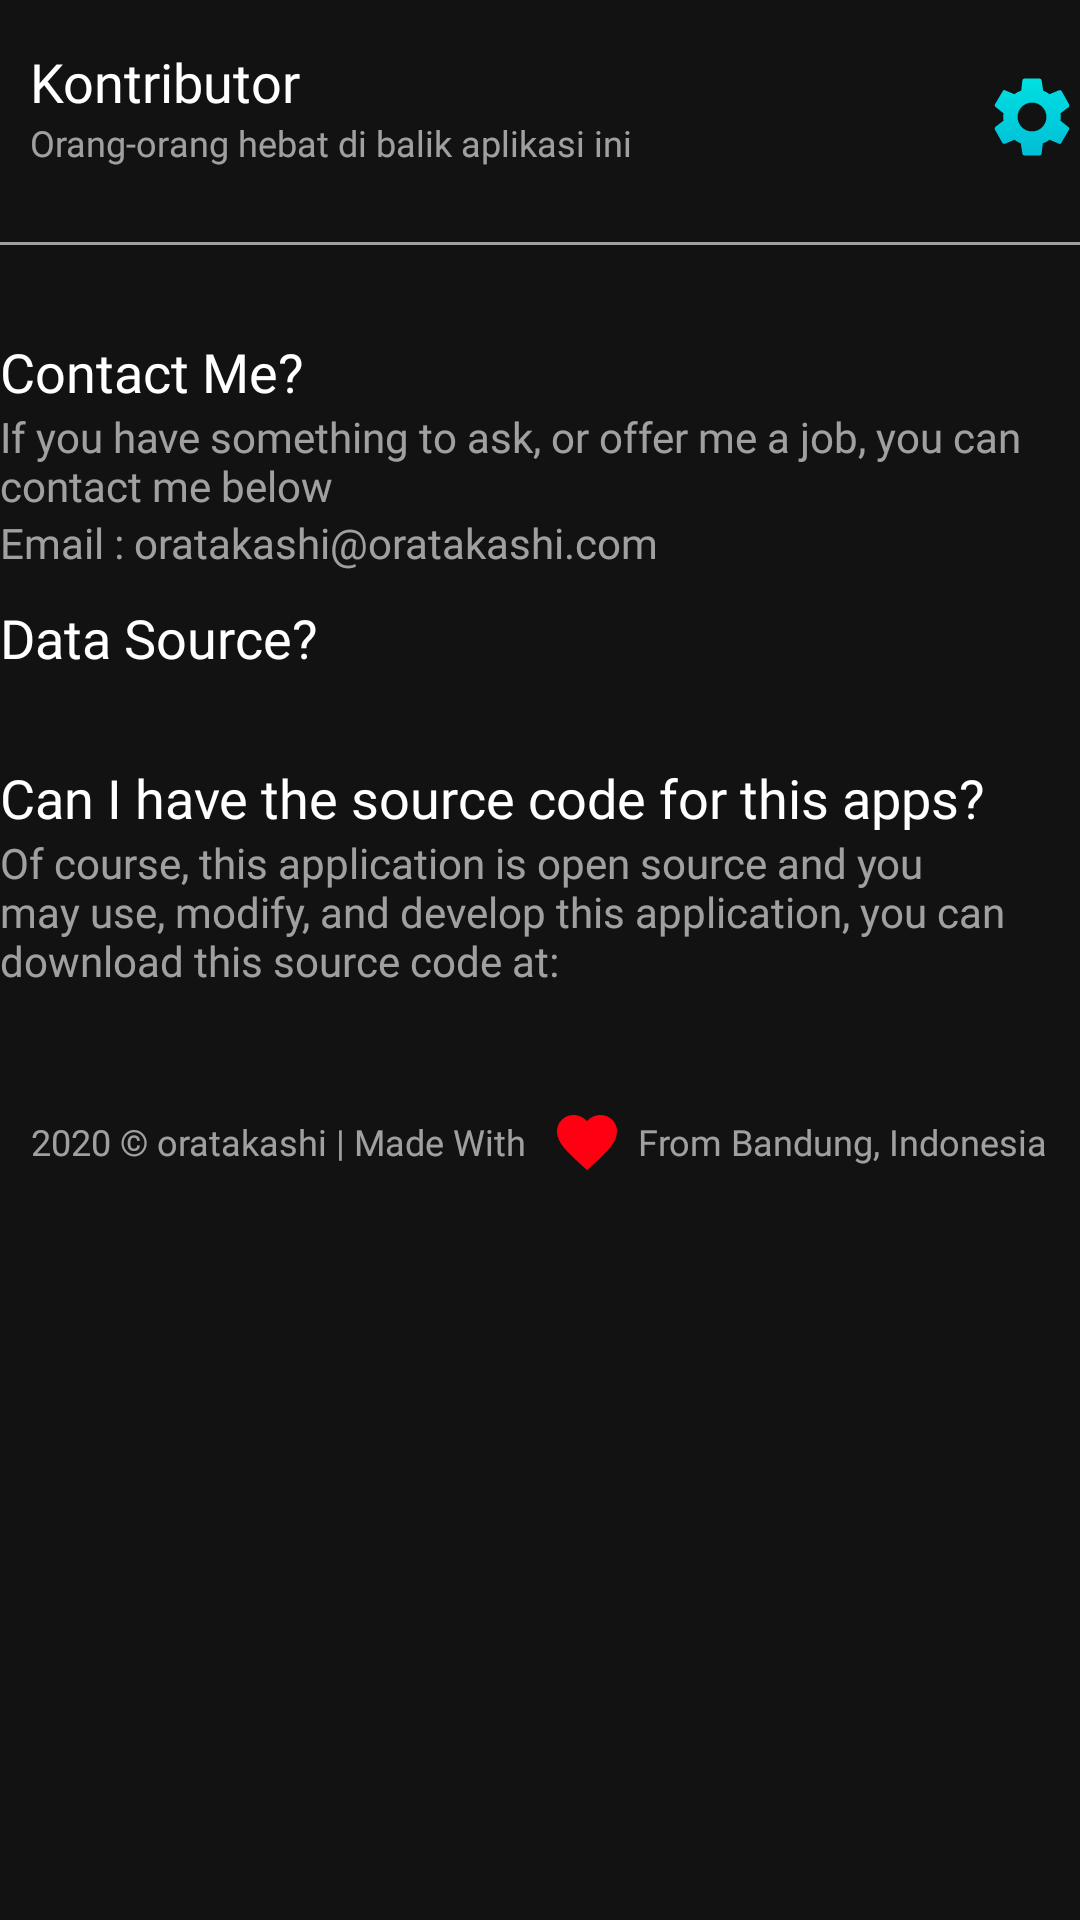

Named icons in this screenshot (1080*1920) and their bounding boxes, {"x1": x1, "y1": y1, "x2": x2, "y2": y2}:
love: {"x1": 557, "y1": 1115, "x2": 617, "y2": 1170}
settings: {"x1": 994, "y1": 78, "x2": 1070, "y2": 156}
